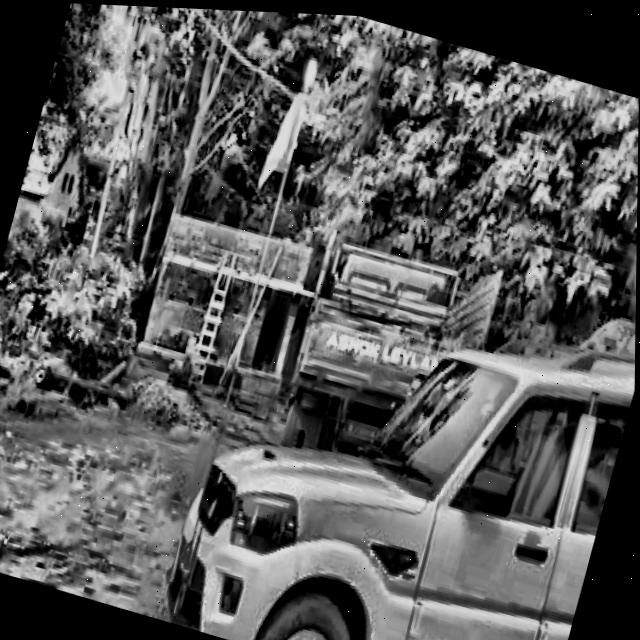light_vehicle: (161, 261, 637, 640)
